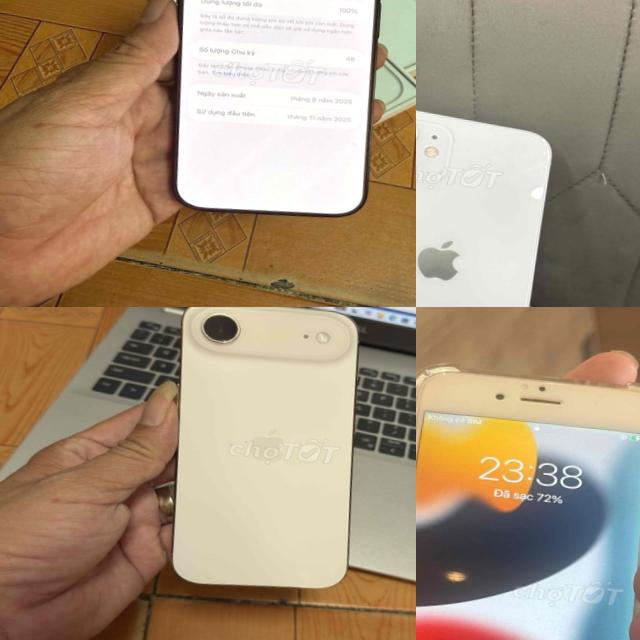gen_12_13: (416, 94, 560, 307)
gen_17: (156, 307, 378, 607), (152, 0, 401, 219)
gen_6: (416, 359, 640, 640)
